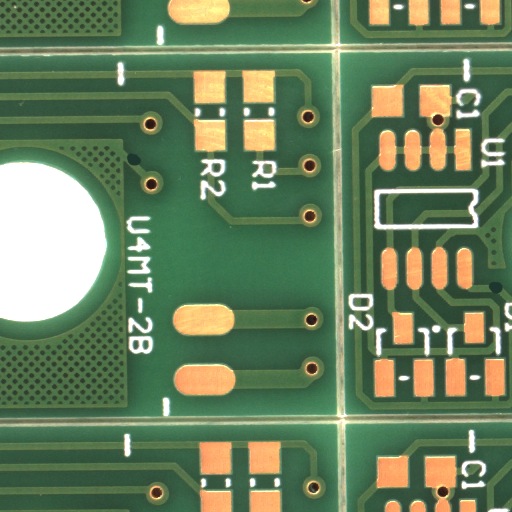Mouse_bite: (134, 159, 149, 172), (495, 287, 506, 298)
